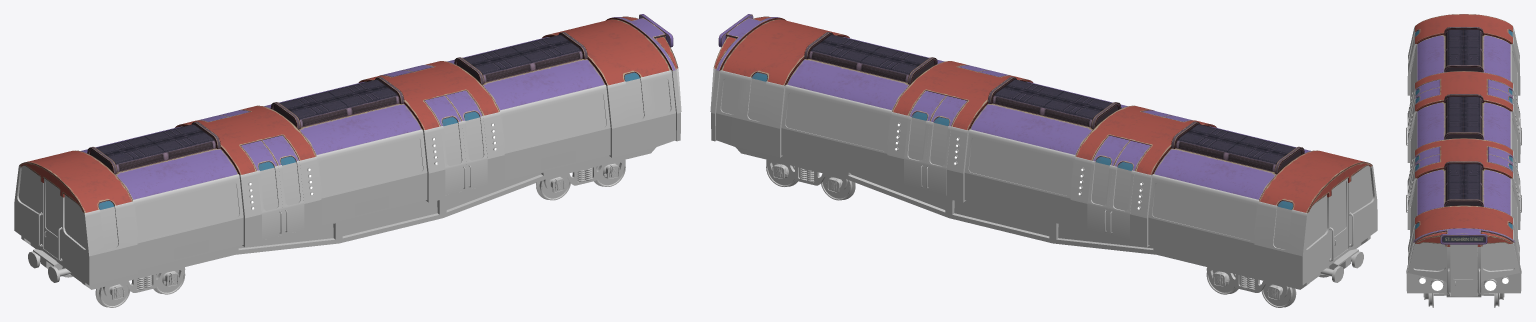
Rendered from ВАГОН_ГОЛОВНОЙ.fbx.
3 renders of one model, left to right at view 1: azimuth 30°, elevation 25°; view 2: azimuth 150°, elevation 25°; view 3: azimuth 270°, elevation 25°, orthographic. The views are drawn at different scales.
Visible parts, largest first — view 1: КОРПУС, КРЫША, ПЛАТФОРМА, ДВЕРИ РАЗДВИЖНЫЕ 1, ДВЕРИ РАЗДВИЖНЫЕ 2, ДВЕРИ ВРЛП, ДВЕРИ ВРЛЛ, ДВЕРЬ З; view 2: КОРПУС, КРЫША, ПЛАТФОРМА, ДВЕРИ РАЗДВИЖНЫЕ 3, ДВЕРИ РАЗДВИЖНЫЕ 4, ДВЕРИ ВРПП, ДВЕРИ ВРПЛ, ДВЕРЬ З; view 3: КРЫША, КОРПУС, ДВЕРЬ П, ДВЕРИ ВРПП, ДВЕРИ ВРПЛ, ДВЕРИ ВРЛЛ, ДВЕРИ ВРЛП, ПЛАТФОРМА, ДВЕРИ РАЗДВИЖНЫЕ 4, ДВЕРИ РАЗДВИЖНЫЕ 1, ДВЕРИ РАЗДВИЖНЫЕ 3, ДВЕРИ РАЗДВИЖНЫЕ 2.
Part boxes in pixels (x1=…): КОРПУС: x1=14, y1=68, x2=681, y2=285; КРЫША: x1=19, y1=14, x2=678, y2=213; ПЛАТФОРМА: x1=21, y1=147, x2=656, y2=307; ДВЕРИ РАЗДВИЖНЫЕ 1: x1=278, y1=116, x2=487, y2=234; ДВЕРИ РАЗДВИЖНЫЕ 2: x1=257, y1=121, x2=466, y2=239; ДВЕРИ ВРЛП: x1=262, y1=90, x2=482, y2=165; ДВЕРИ ВРЛЛ: x1=241, y1=95, x2=461, y2=170; ДВЕРЬ З: x1=44, y1=178, x2=60, y2=258; КОРПУС: x1=710, y1=68, x2=1377, y2=285; КРЫША: x1=713, y1=14, x2=1372, y2=213; ПЛАТФОРМА: x1=735, y1=147, x2=1370, y2=307; ДВЕРИ РАЗДВИЖНЫЕ 3: x1=925, y1=121, x2=1134, y2=240; ДВЕРИ РАЗДВИЖНЫЕ 4: x1=904, y1=116, x2=1113, y2=235; ДВЕРИ ВРПП: x1=930, y1=96, x2=1150, y2=170; ДВЕРИ ВРПЛ: x1=909, y1=90, x2=1129, y2=165; ДВЕРЬ З: x1=1331, y1=178, x2=1347, y2=258; КРЫША: x1=1413, y1=14, x2=1514, y2=246; КОРПУС: x1=1406, y1=26, x2=1521, y2=297; ДВЕРЬ П: x1=1451, y1=244, x2=1477, y2=296; ДВЕРИ ВРПП: x1=1488, y1=79, x2=1513, y2=163; ДВЕРИ ВРПЛ: x1=1488, y1=87, x2=1513, y2=171; ДВЕРИ ВРЛЛ: x1=1415, y1=79, x2=1439, y2=163; ДВЕРИ ВРЛП: x1=1415, y1=87, x2=1439, y2=171; ПЛАТФОРМА: x1=1423, y1=293, x2=1504, y2=307; ДВЕРИ РАЗДВИЖНЫЕ 4: x1=1512, y1=97, x2=1521, y2=220; ДВЕРИ РАЗДВИЖНЫЕ 1: x1=1406, y1=97, x2=1415, y2=212; ДВЕРИ РАЗДВИЖНЫЕ 3: x1=1512, y1=89, x2=1521, y2=210; ДВЕРИ РАЗДВИЖНЫЕ 2: x1=1406, y1=89, x2=1415, y2=210.
Size of the model in its own units: 2702 by 567 by 587.
